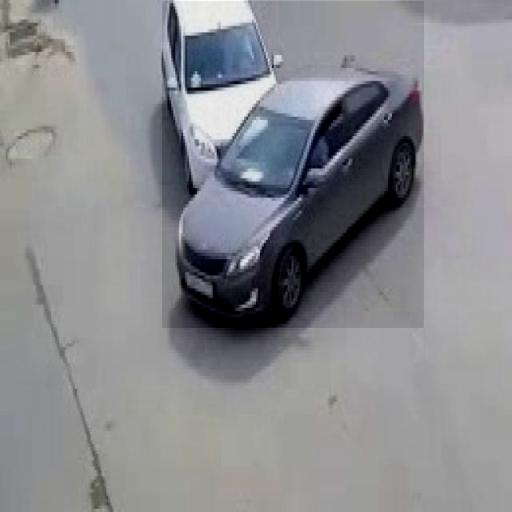小汽车撞小汽车: (162, 1, 424, 328)
